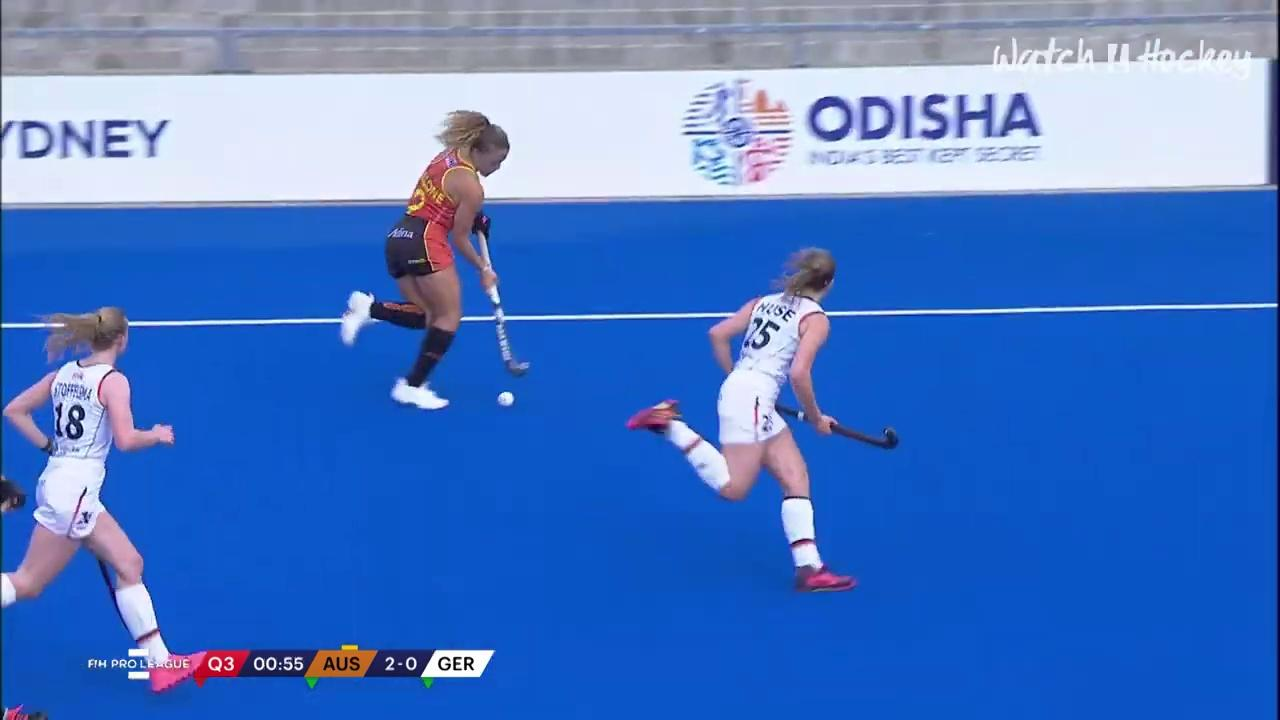ball: (480, 372, 533, 426)
